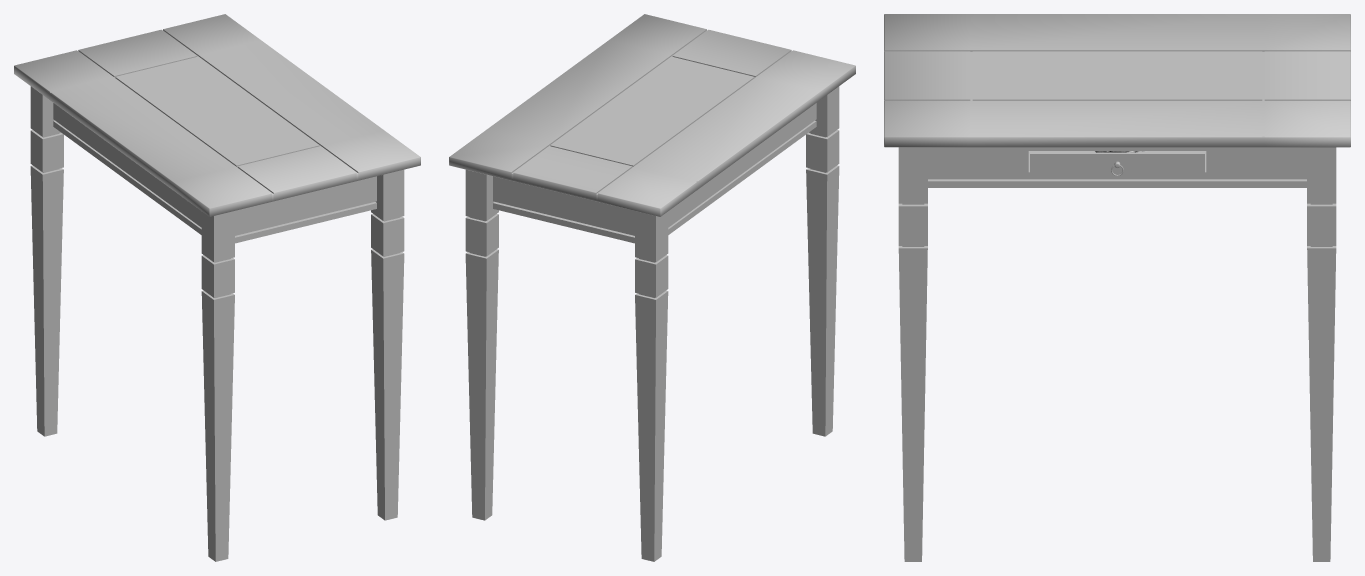
The model's file is AudioCode-Modells-PICKUP-TABLE.fbx.
The picture shows the model from 3 angles, left to right: view 1: azimuth 30°, elevation 25°; view 2: azimuth 150°, elevation 25°; view 3: azimuth 270°, elevation 25°; orthographic projection. The views are drawn at different scales.
Visible parts, largest first — view 1: Table; view 2: Table; view 3: Table, Case.
Boxes of the visible parts, x1,y1,x2,y2 form: Table: [14, 14, 420, 561]; Table: [449, 14, 855, 561]; Table: [884, 14, 1350, 561]; Case: [1030, 151, 1204, 175].
Bounding box in the file's own units: 50 × 82 × 80.
